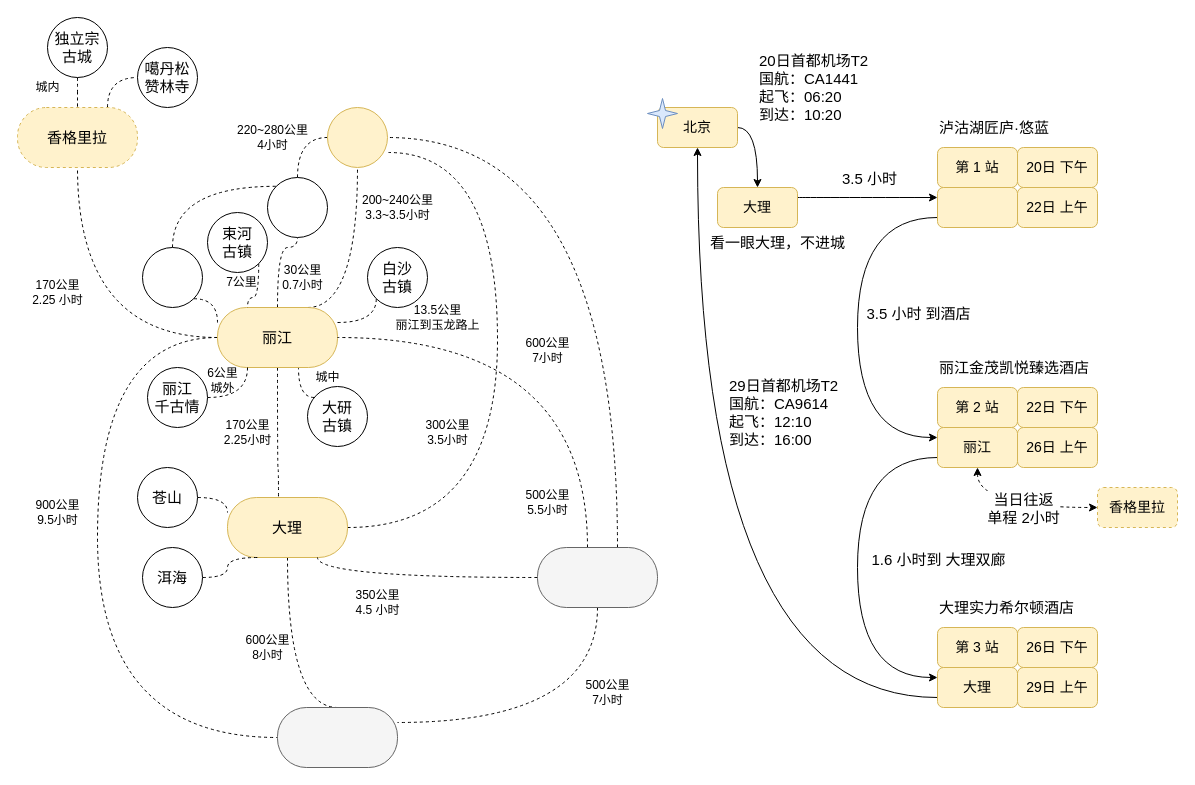
Image size: 1195x785. Some labels were removed from this diagram. Here are the shapes that lost their labels. From the top down, the centre of each, then its label:
[357,137]: 泸沽湖 2690m
[297,207]: 玉龙 雪山
[977,207]: 泸沽湖
[172,277]: 文海
[597,577]: 昆明
[337,737]: 西双版纳
